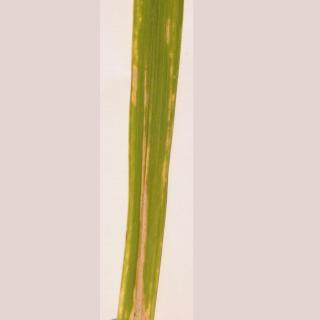Hawar-Daun: (127, 11, 153, 320), (153, 13, 178, 264)
